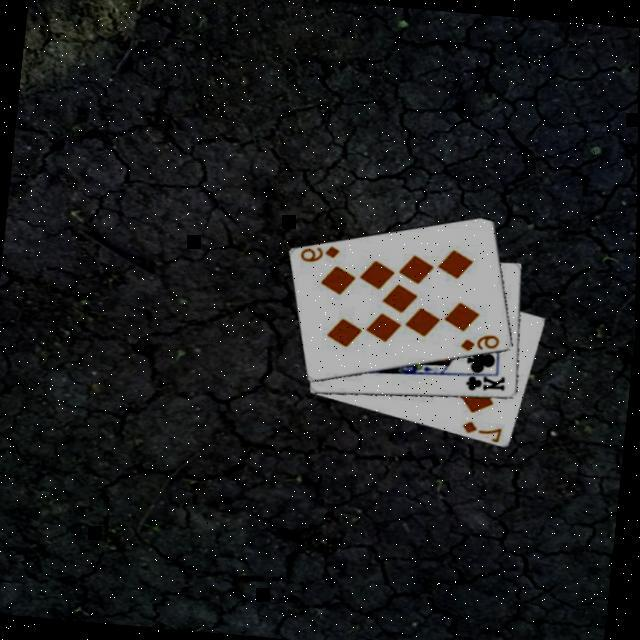7D: (457, 418, 504, 444)
9D: (456, 330, 502, 358), (295, 241, 341, 268)
KC: (458, 368, 508, 397)
